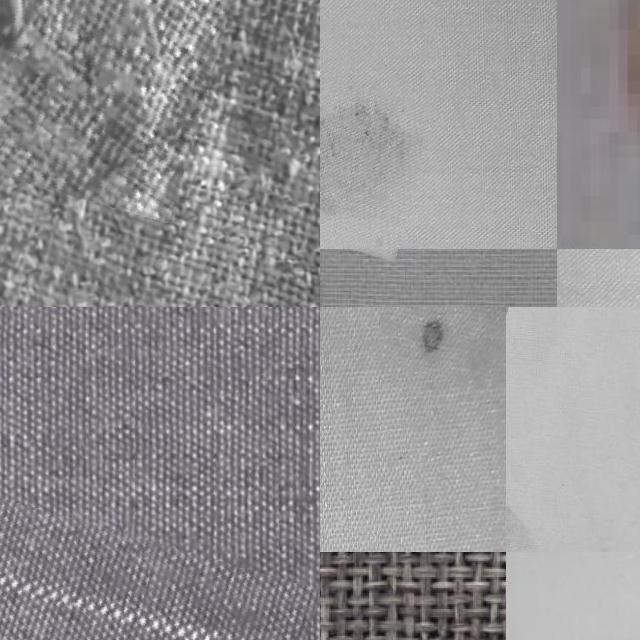Hole: (557, 0, 640, 249), (320, 82, 427, 255), (378, 307, 514, 382)
Thread_other: (0, 487, 312, 640)
